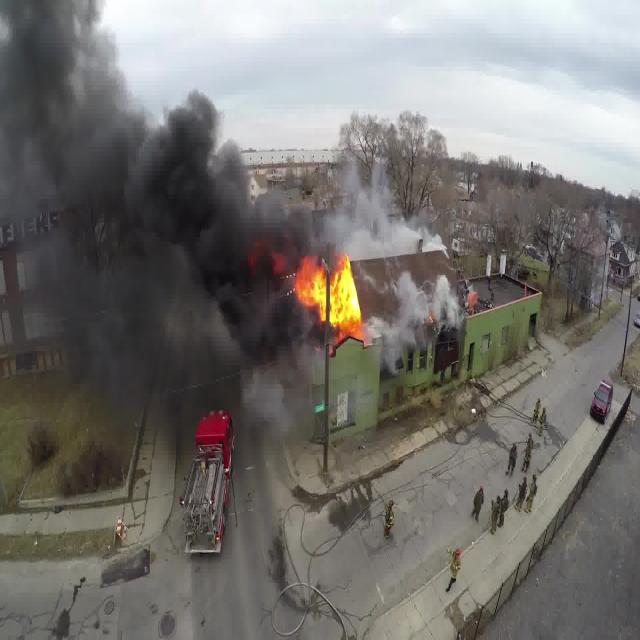smoke: (12, 100, 268, 400), (340, 186, 421, 253)
